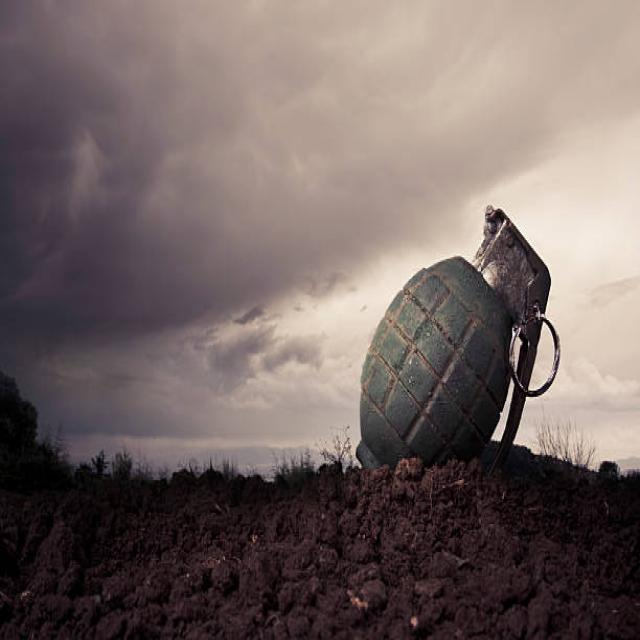grenade: (353, 203, 569, 486)
